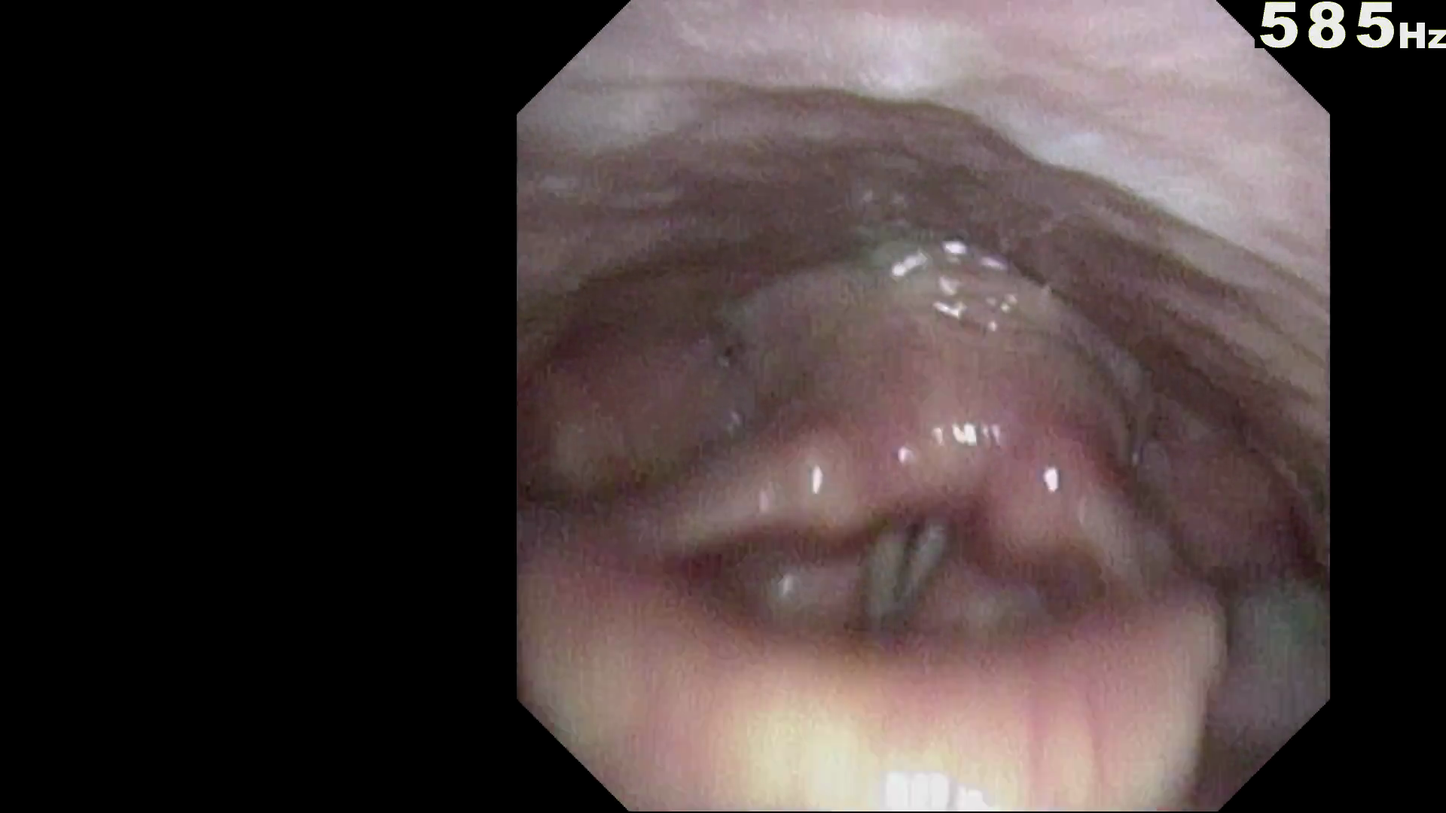epiglottis: (612, 635, 1237, 789)
trachea: (849, 497, 967, 629)
